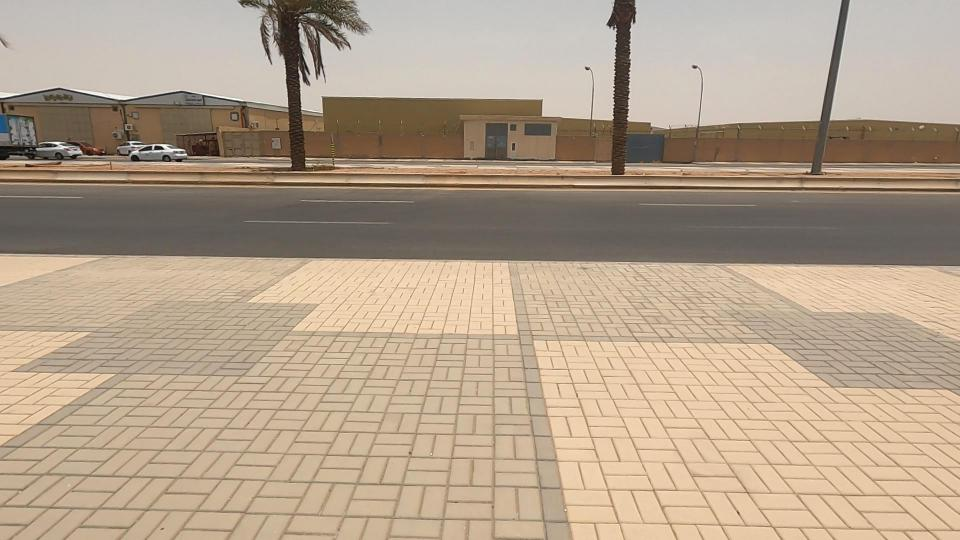CLUTTER_SIDEWALK: (256, 135, 593, 211), (589, 139, 834, 224), (30, 136, 326, 188)
